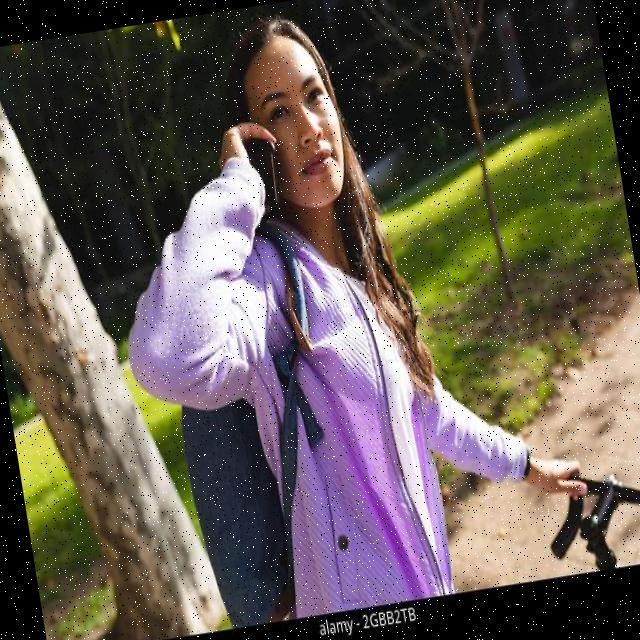Using mobile: (166, 0, 448, 283)
